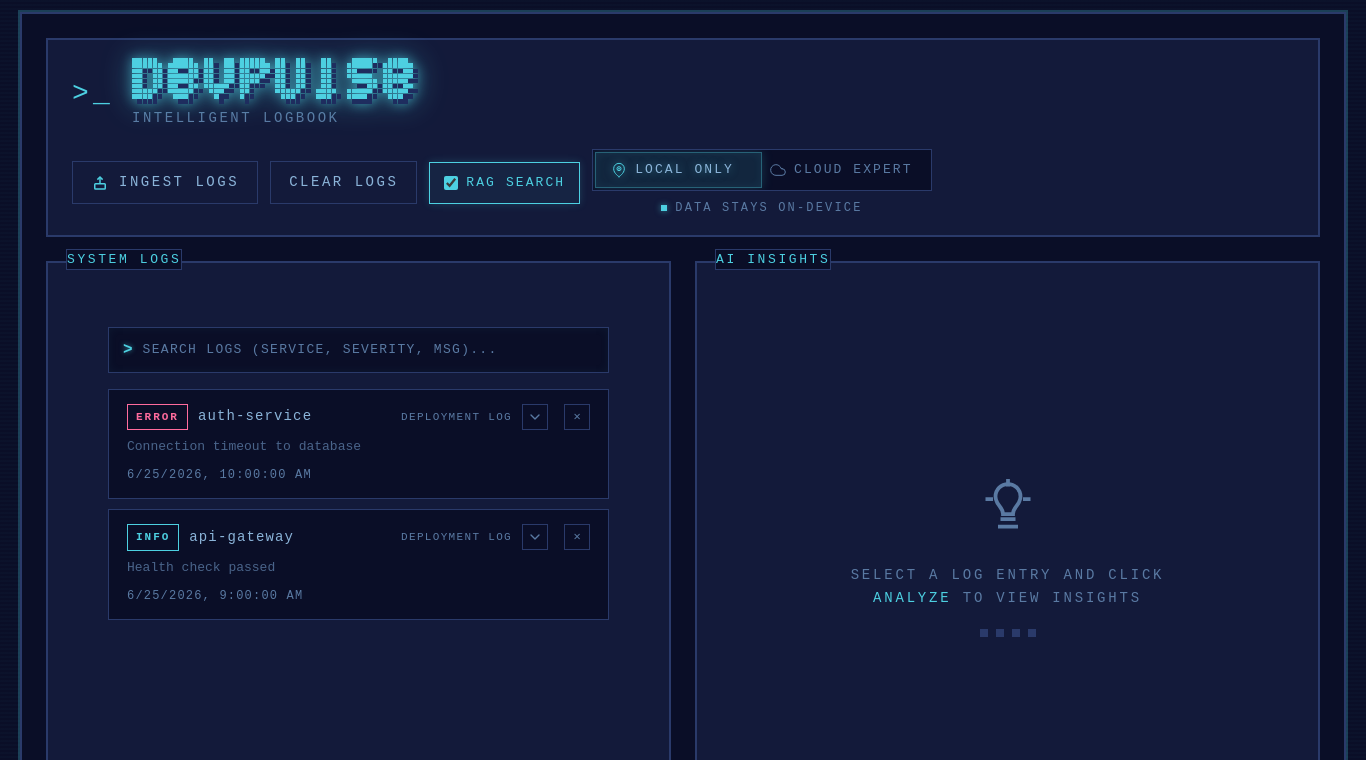
it: App › clear logs › should reset status bar count to 0 after clearing
Click the button "Clear Logs" at (344, 183), box [270,161,417,204]
(page scrolled)
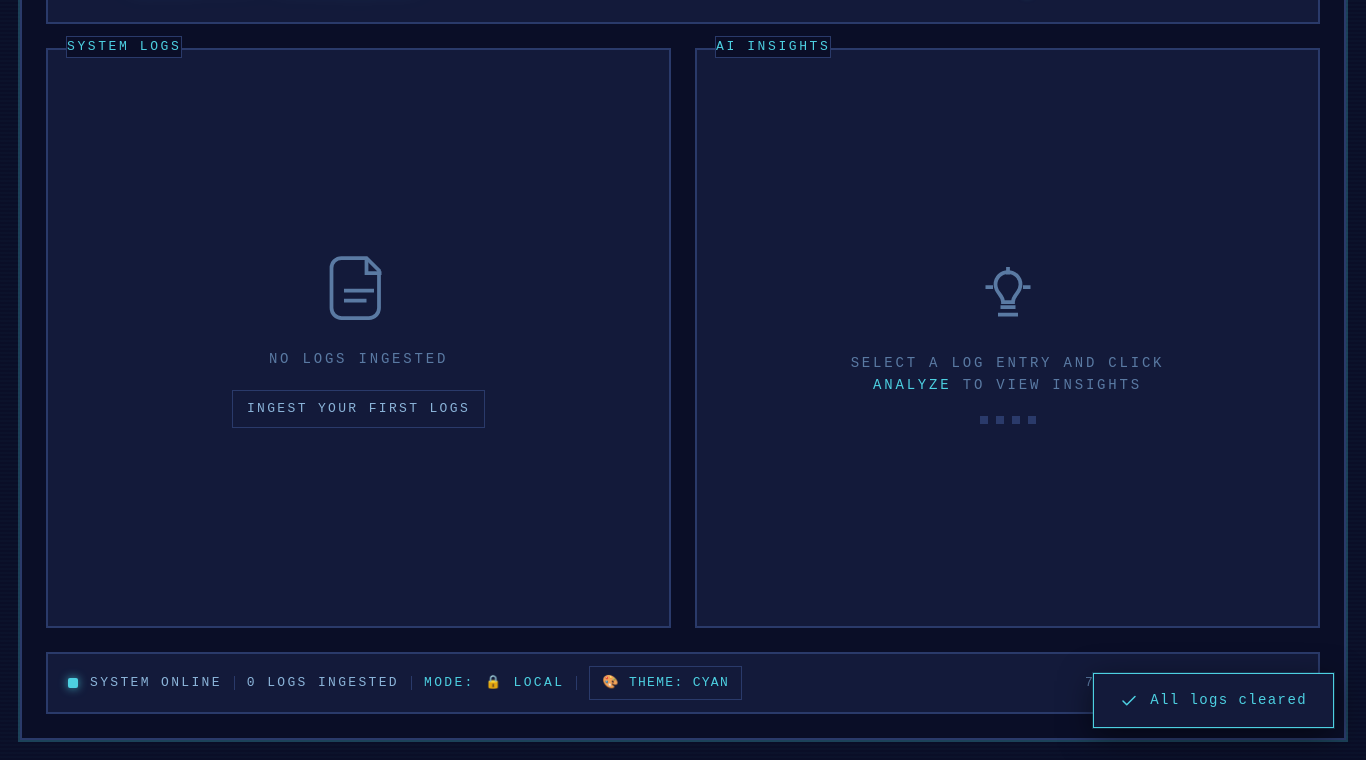
expect the text "System Online0 Logs Ingested Mode: 🔒 Local 🎨 Theme: CYAN" is shown: met, box [68,666,742,700]
